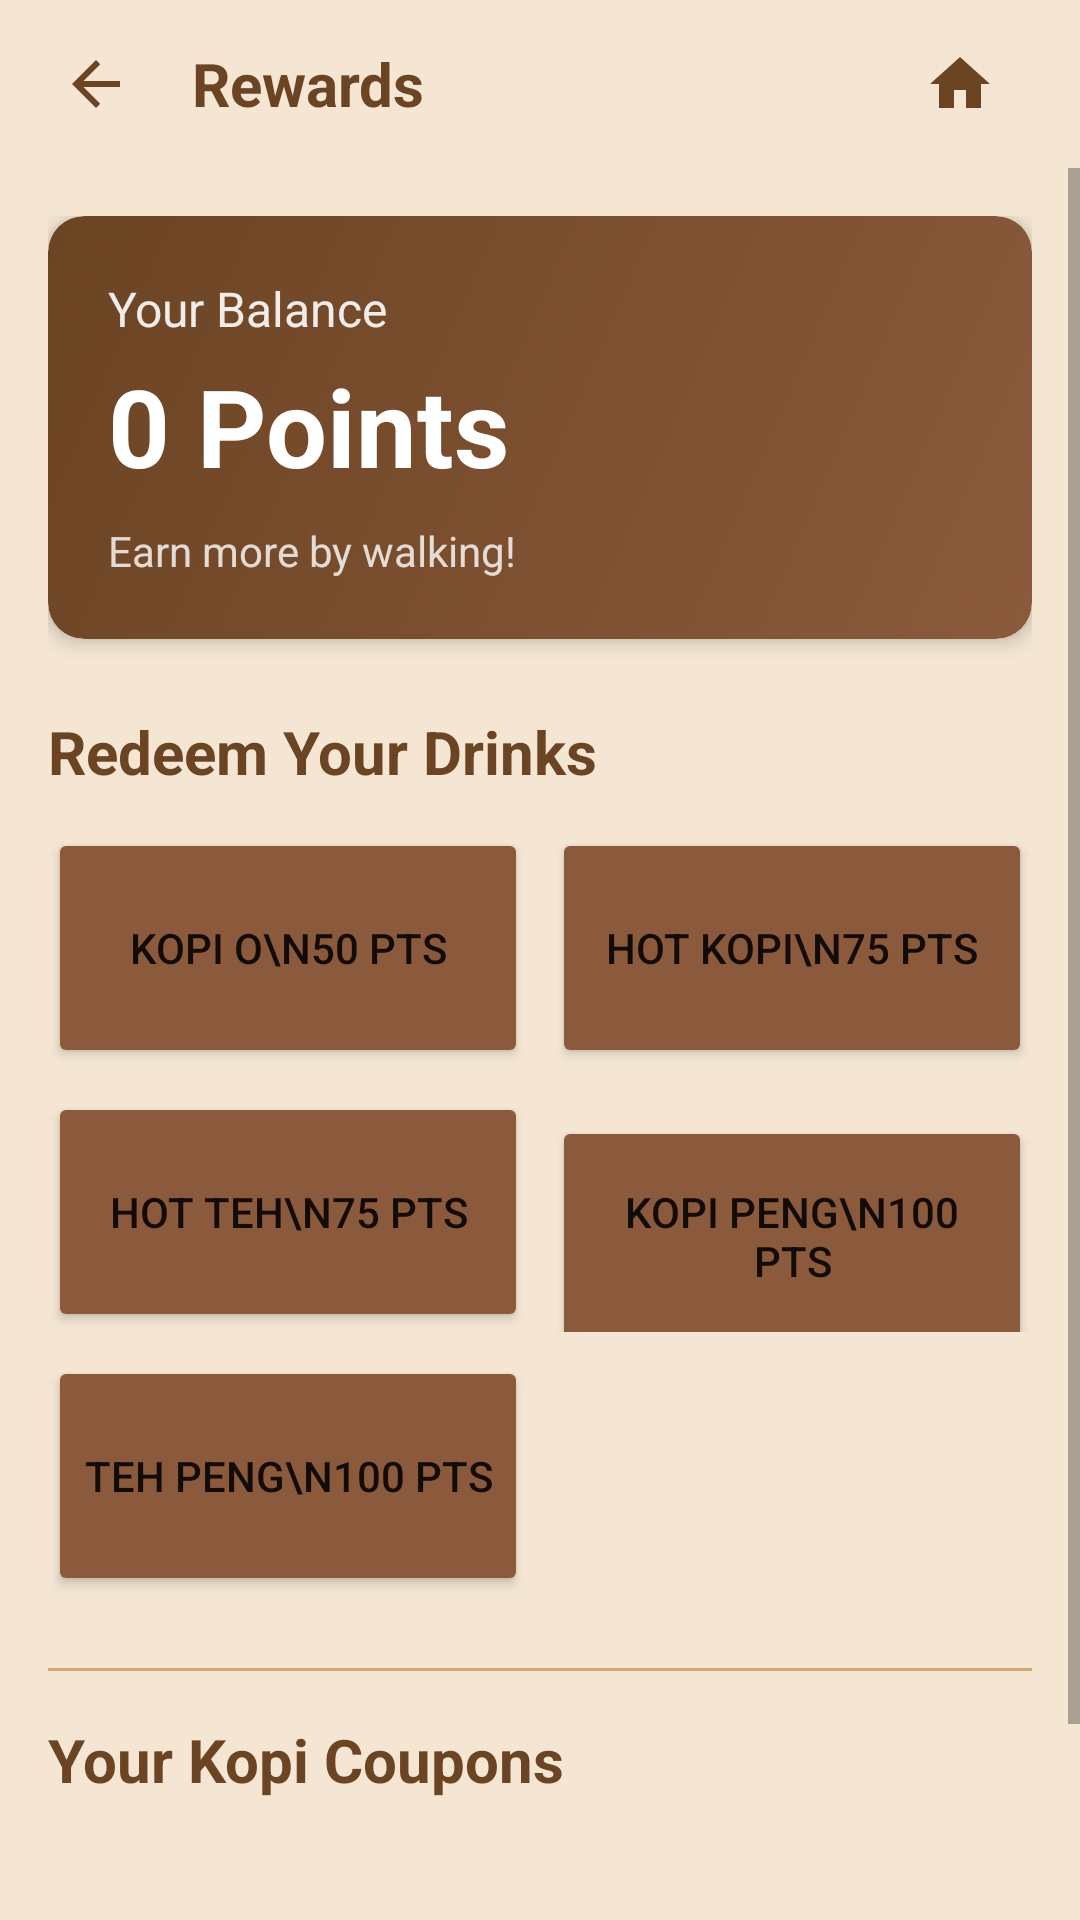

Locate icon controls on the screen. Image size 1080*1920, boxes as BBox(x1, y1, x2, y2).
Back: BBox(72, 60, 120, 108)
Home: BBox(930, 57, 990, 108)
